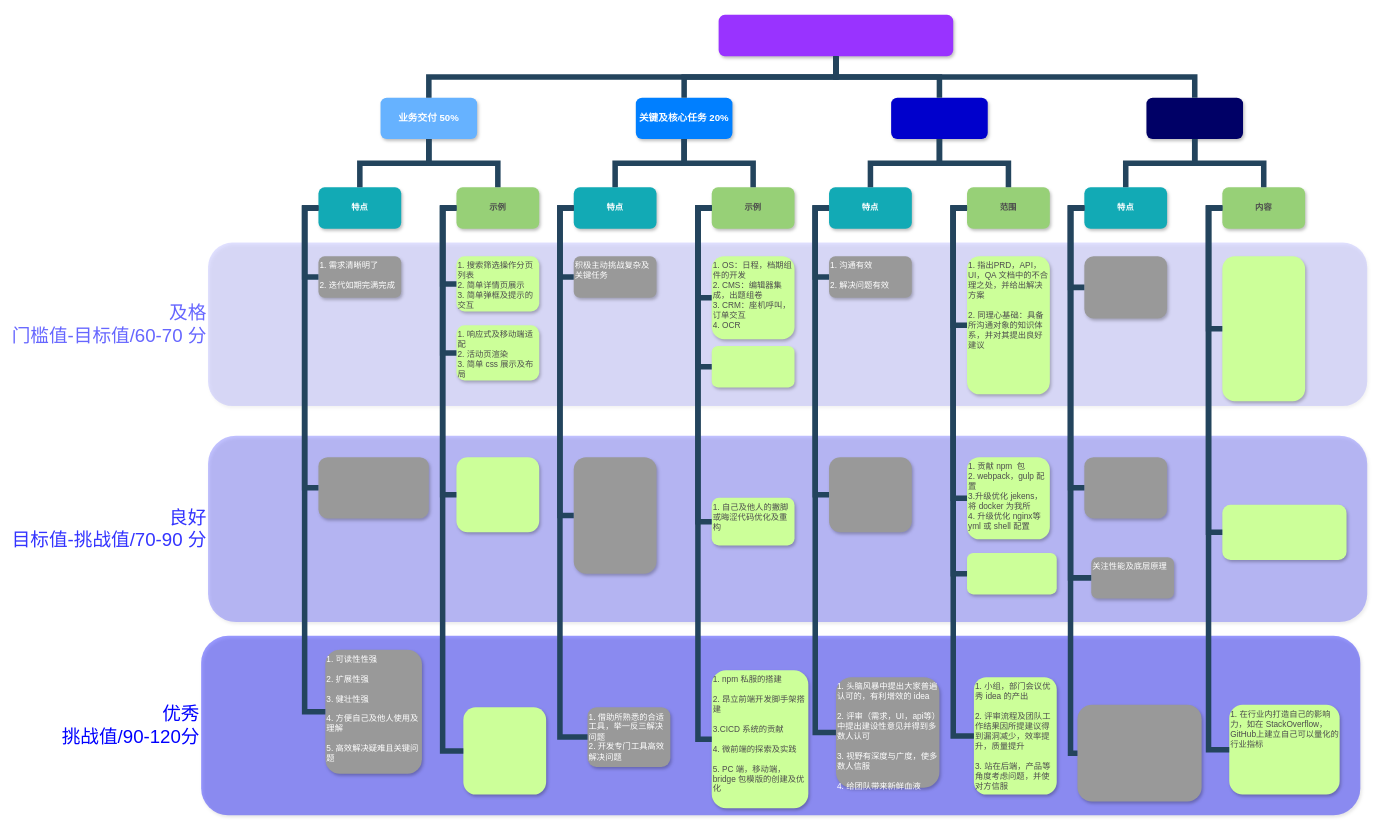
Image size: 1383x831. Some labels were removed from this diagram. Each missing label, with the centre of its shape:
"1. eslint/commit-lint/husky 及代码 reviewer 者提出的合理建议 2. 不滥用 any，不滥用 各种 ignore" belongs at point 1264,329.
"1. 代码优雅规范 2. 逻辑及思路清晰 3. 化繁为简，模块清晰独立" belongs at point 374,488.
"1. 制定跳一跳能实现的 OKR，并能实现至少 8 成" belongs at point 1012,574.
"1. 单组件，单方法简约清晰 2. 公共模块的抽离 3. DRY：write less，do more" belongs at point 498,495.
"1. 善于化繁为简，灵活应用已有技能高效解决问题" belongs at point 615,516.
"1. 在约束下提升自己 2. 掌握工具，能熟练应用" belongs at point 1126,288.
"1. 在线答题" belongs at point 753,367.
"1. 有自己持续更新的博客或总结 2. 有自己计划中研究的方向 3. 有自己的行业标杆和个人品牌" belongs at point 1284,533.
"1. 有自驱力，持续优化 2. 积极主动研究对团队有利的技术或工具" belongs at point 1126,488.
"1. 灵活引入类似业务业内优秀做法并能优化 2. 能从优秀开源作品中汲取好的开发实践，使作品具有很大价值" belongs at point 505,751.
"1. 积极主动分享技术并给业务赋能 2. 建立个人技术口碑" belongs at point 1139,754.
"1. 贡献核心，公共包代码； 2. 优化打包构建逻辑 3. 优化 CICD 过程" belongs at point 871,495.
"个人发展 15%" belongs at point 1195,119.
"团队合作 15%" belongs at point 940,119.
"绩效指标" belongs at point 836,36.
